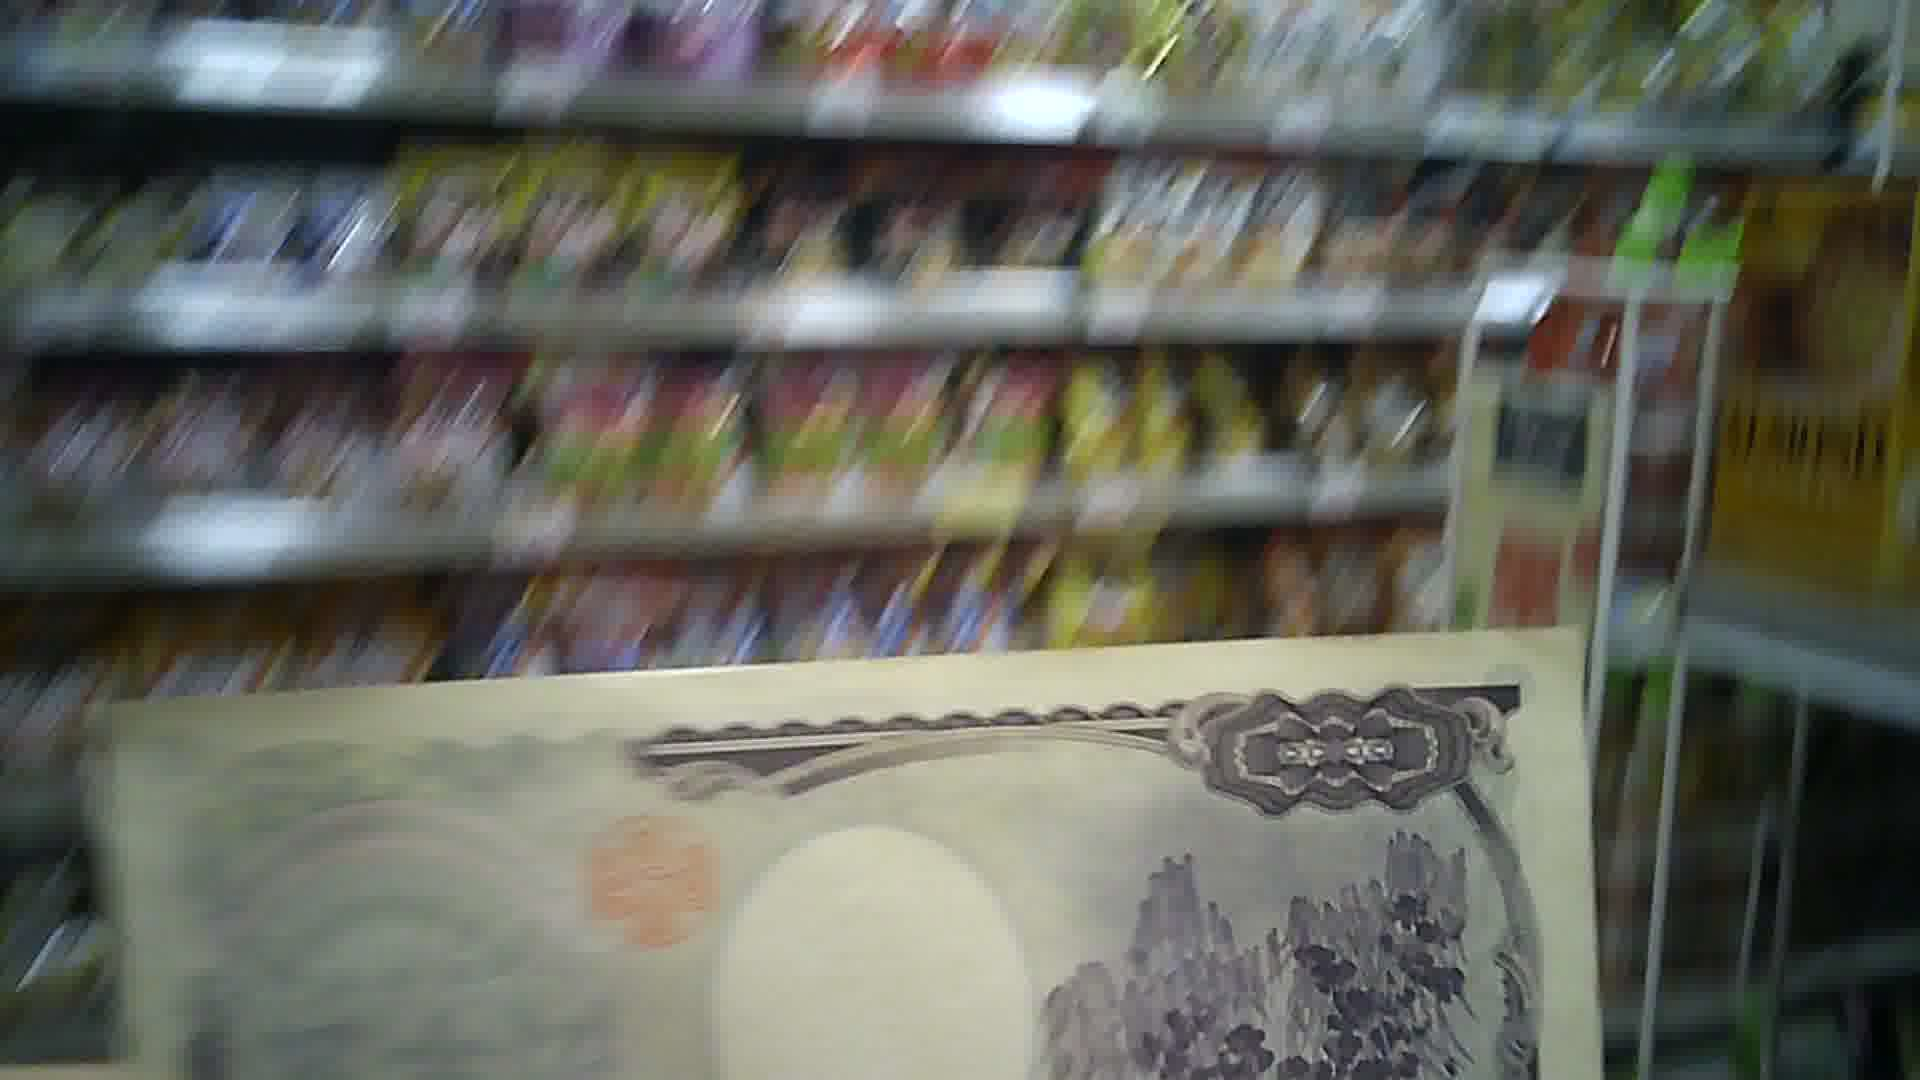5,000 Yen: (109, 655, 1580, 1069)
